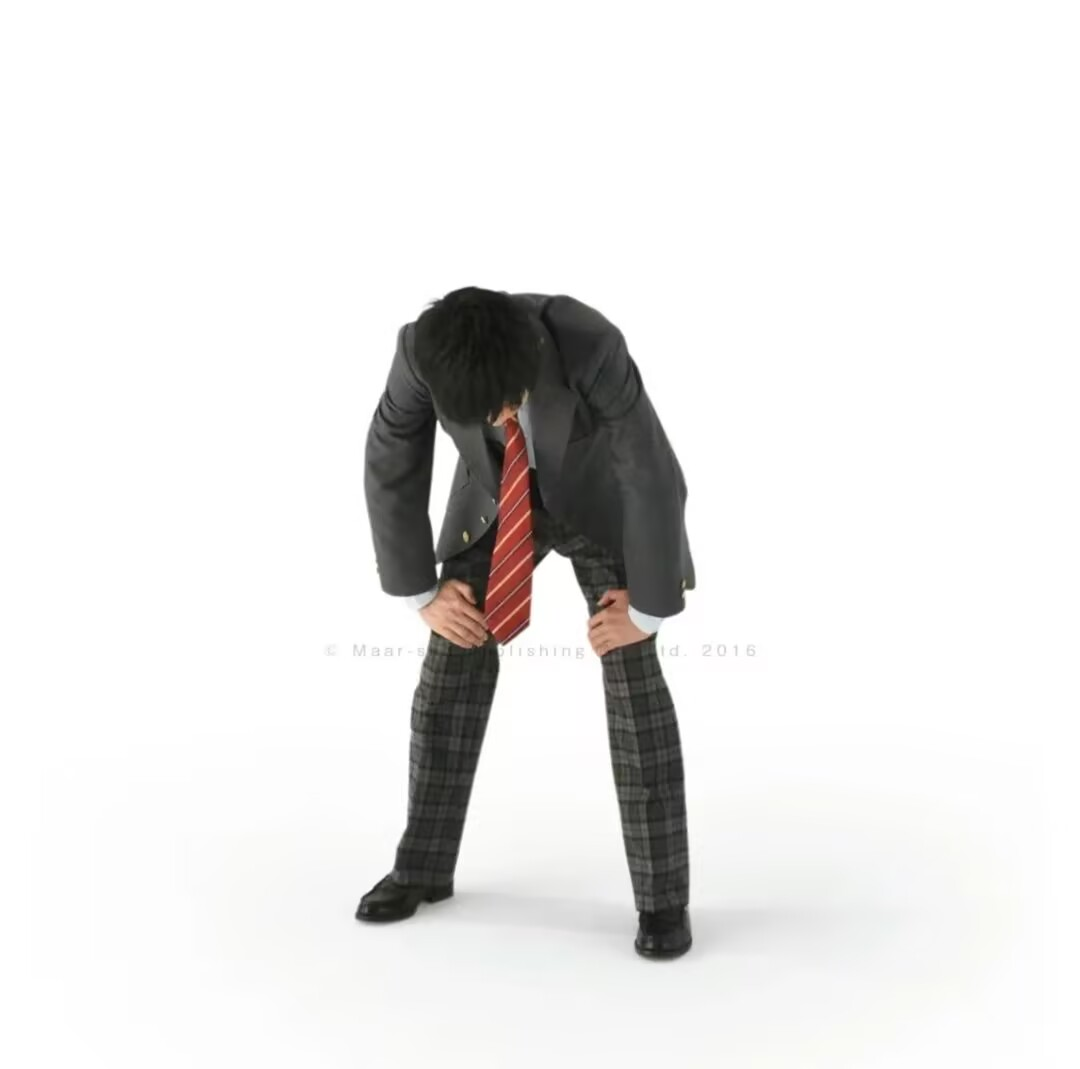bending: (334, 255, 760, 972)
